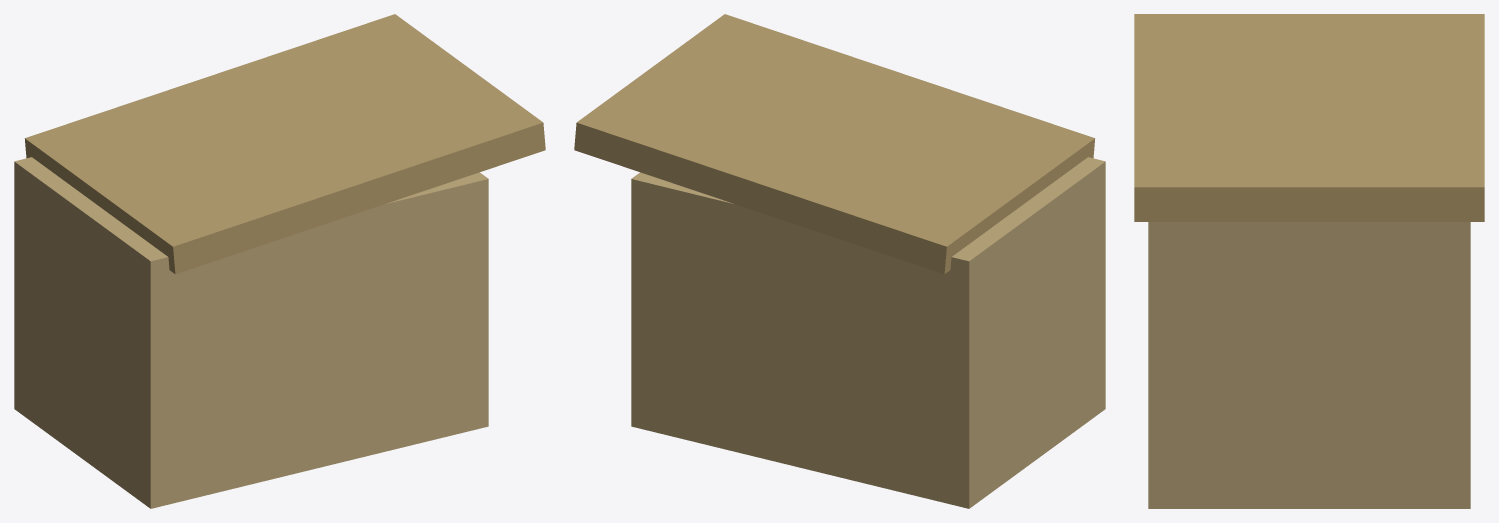
Rendered from env-ww-dynamite.glb.
3 renders of one model, left to right at view 1: azimuth 30°, elevation 25°; view 2: azimuth 150°, elevation 25°; view 3: azimuth 270°, elevation 25°, orthographic. The views are drawn at different scales.
Size of the model in its own units: 0.5757 by 0.4189 by 0.38.
